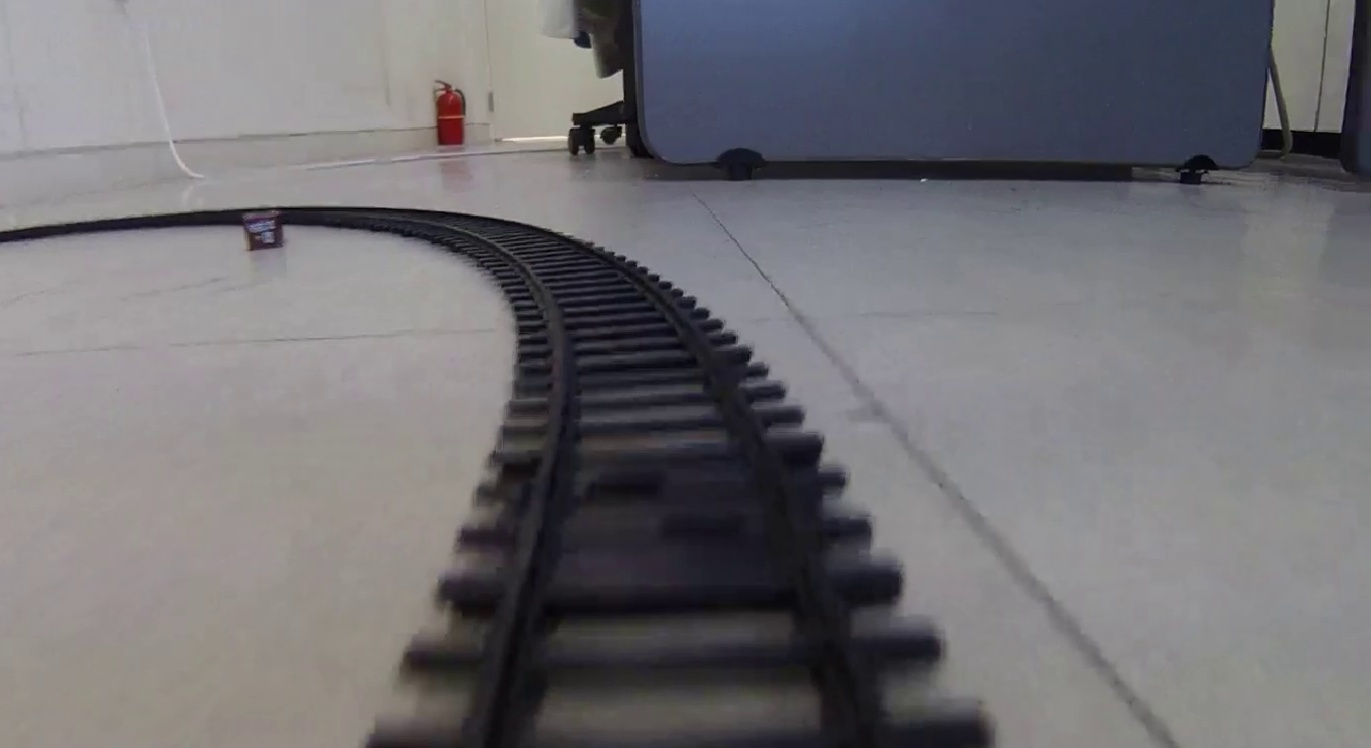box: (241, 210, 285, 252)
